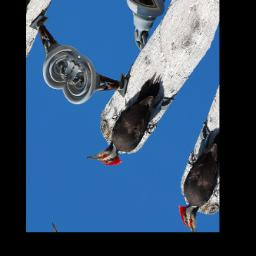Woodpecker: (83, 56, 180, 190)
